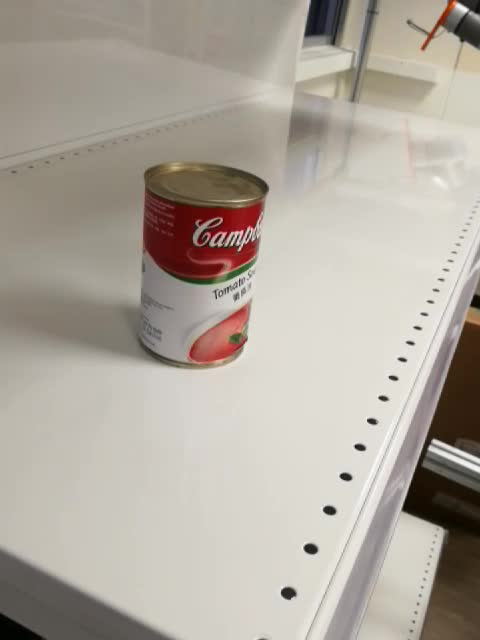tomatosoup: (136, 159, 269, 370)
